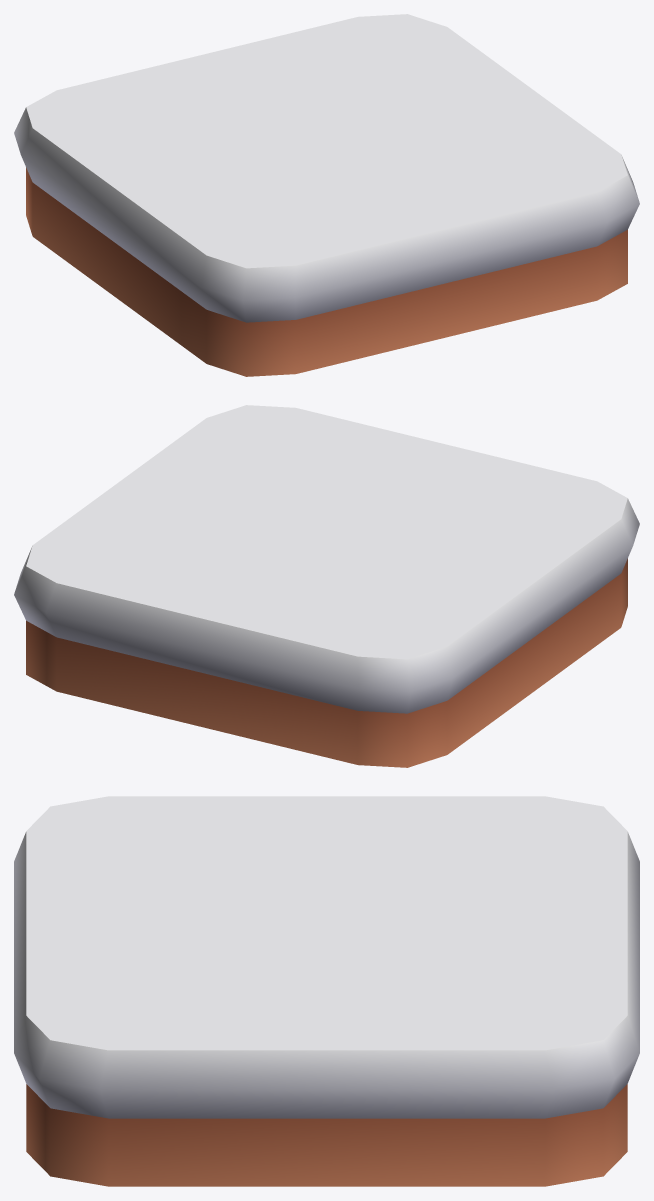
File: block_snow_low_large.glb
3 views of the same model, one above another, from view 1: azimuth 30°, elevation 25°; view 2: azimuth 150°, elevation 25°; view 3: azimuth 270°, elevation 25° (orthographic). The views are drawn at different scales.
Parts seen in each view (by area): view 1: block-snow-low-large; view 2: block-snow-low-large; view 3: block-snow-low-large.
Boxes of the visible parts, x1,y1,x2,y2 form: block-snow-low-large: (14,14,639,376); block-snow-low-large: (14,405,639,767); block-snow-low-large: (14,796,639,1186).
Size of the model in its own units: 2.08 by 0.5 by 2.08.
Materials: 1 (1 with a texture image).
